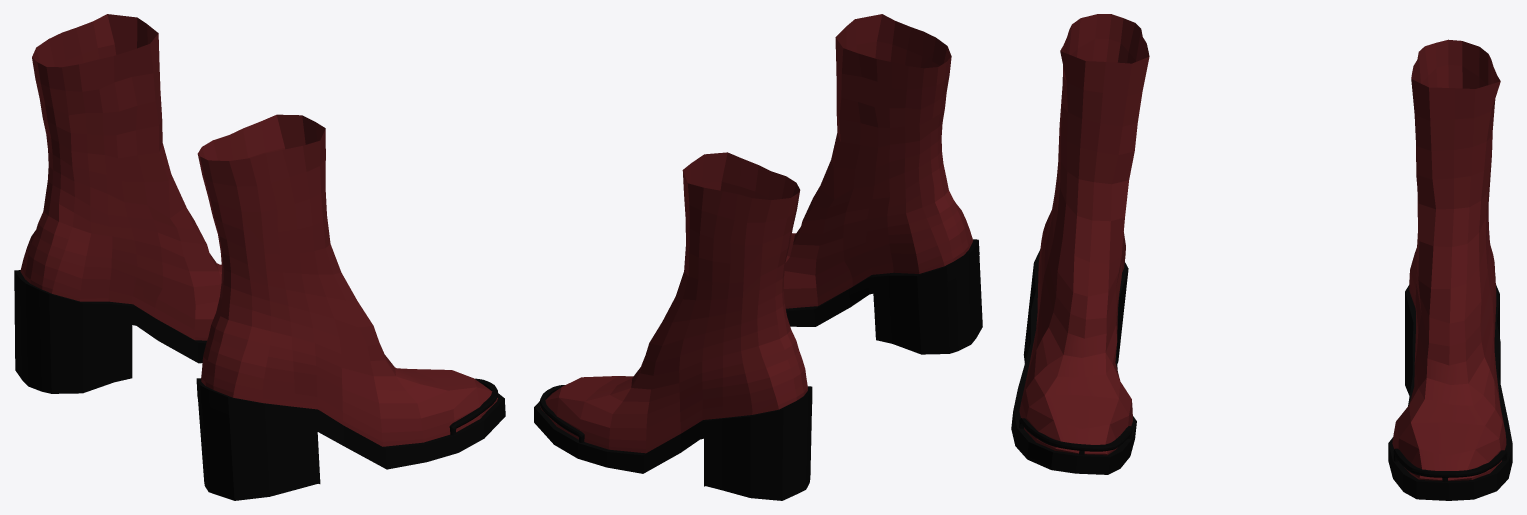
The model's file is women shoes2 .fbx.
3 renders of one model, left to right at view 1: azimuth 30°, elevation 25°; view 2: azimuth 150°, elevation 25°; view 3: azimuth 270°, elevation 25°, orthographic. The views are drawn at different scales.
Parts seen in each view (by area): view 1: base_left.001, base_left; view 2: base_left, base_left.001; view 3: base_left.001, base_left.
Boxes of the visible parts, bbox=[...] form: base_left.001: bbox=[196, 114, 505, 500]; base_left: bbox=[14, 14, 221, 393]; base_left: bbox=[534, 152, 812, 500]; base_left.001: bbox=[783, 14, 982, 354]; base_left.001: bbox=[1011, 14, 1149, 474]; base_left: bbox=[1388, 39, 1512, 500].
Bounding box in the file's own units: 619 × 728 × 894.
